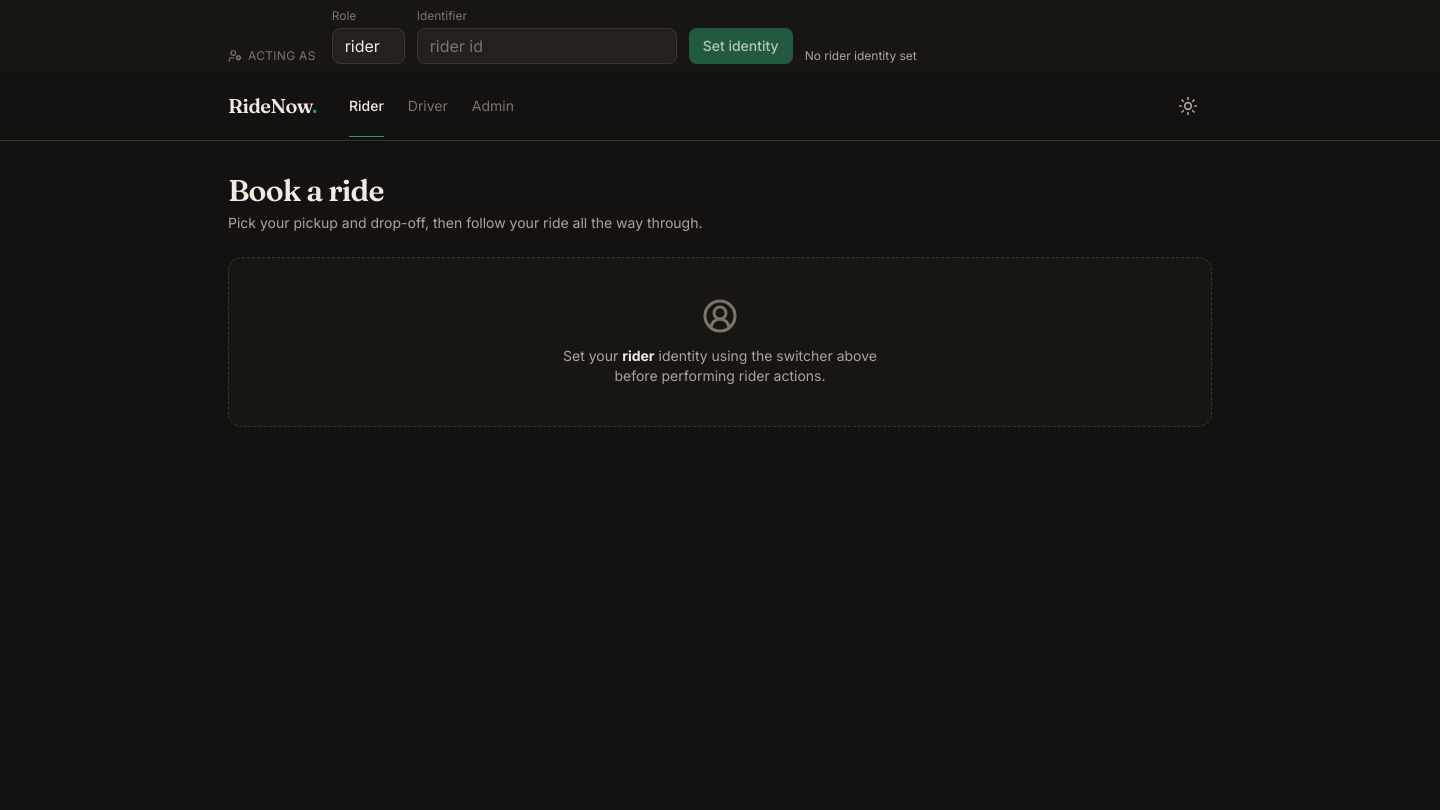
Test case: Feature: ridenow-frontend, Task 6.4: shell navigation and identity prompt › hides the identity prompt once a rider identity is set via the switcher (Req 2.4)
Select "rider" in the dropdown labelled "Role": [368, 46] box 332,28 -> 405,64
In the field labelled "Identifier": [547, 46] box 417,28 -> 677,64, type "rider-123"
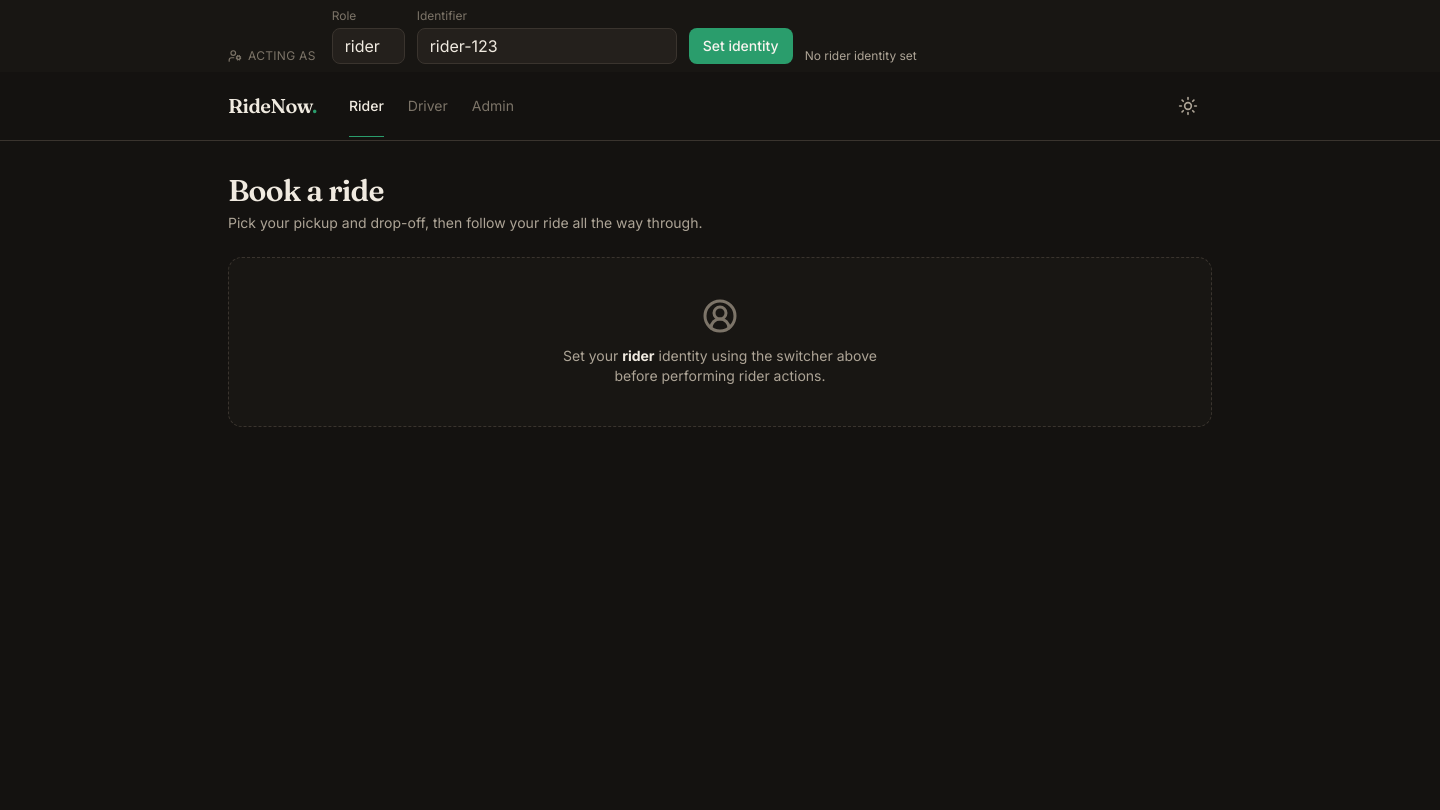
Click the button "Set identity": [741, 46] box 689,28 -> 793,64
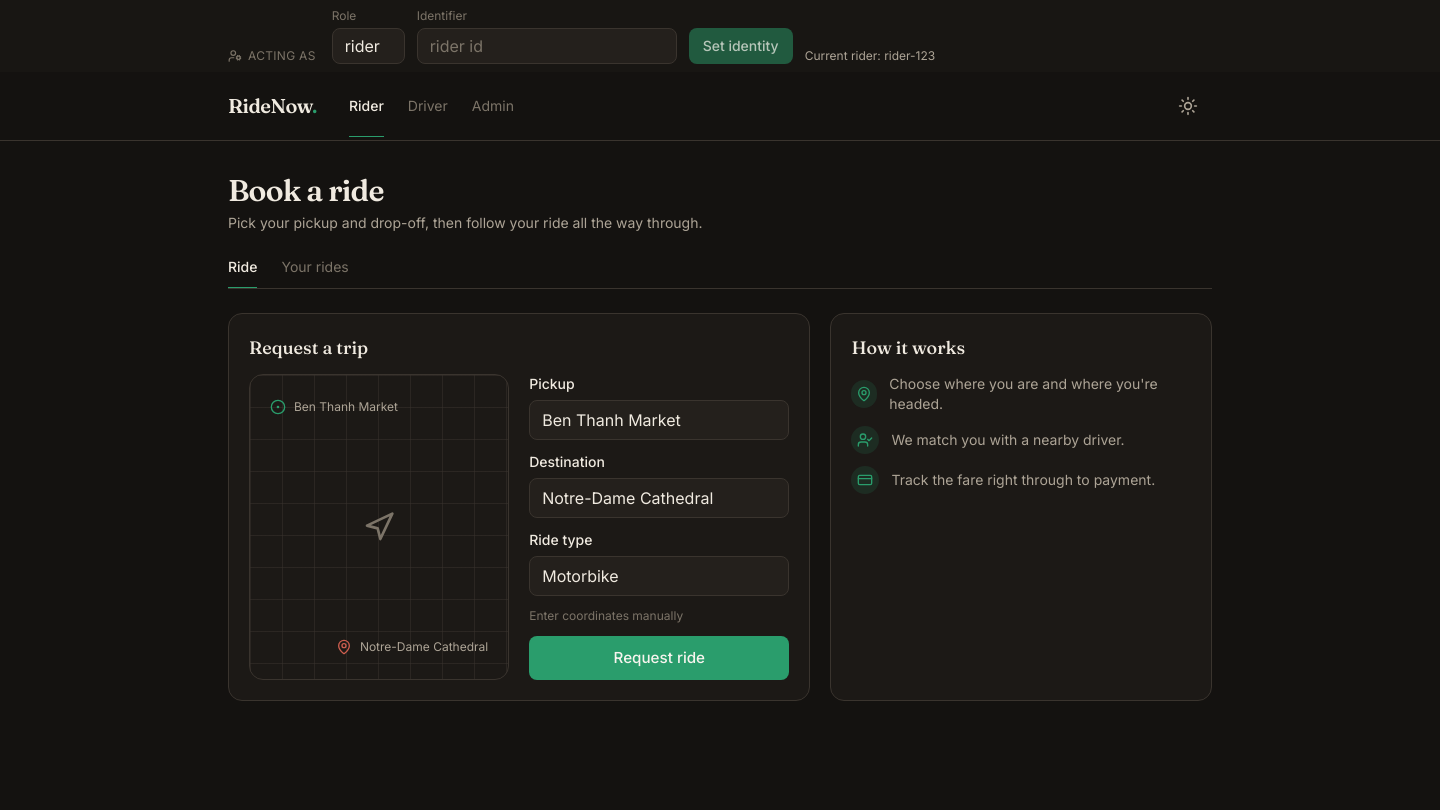
Check: the message is gone
Check: the navigation bar named "Rider screens" is shown, box 228,257 -> 1212,289
Check: the heading "Request a trip" is shown, box 249,336 -> 368,359
